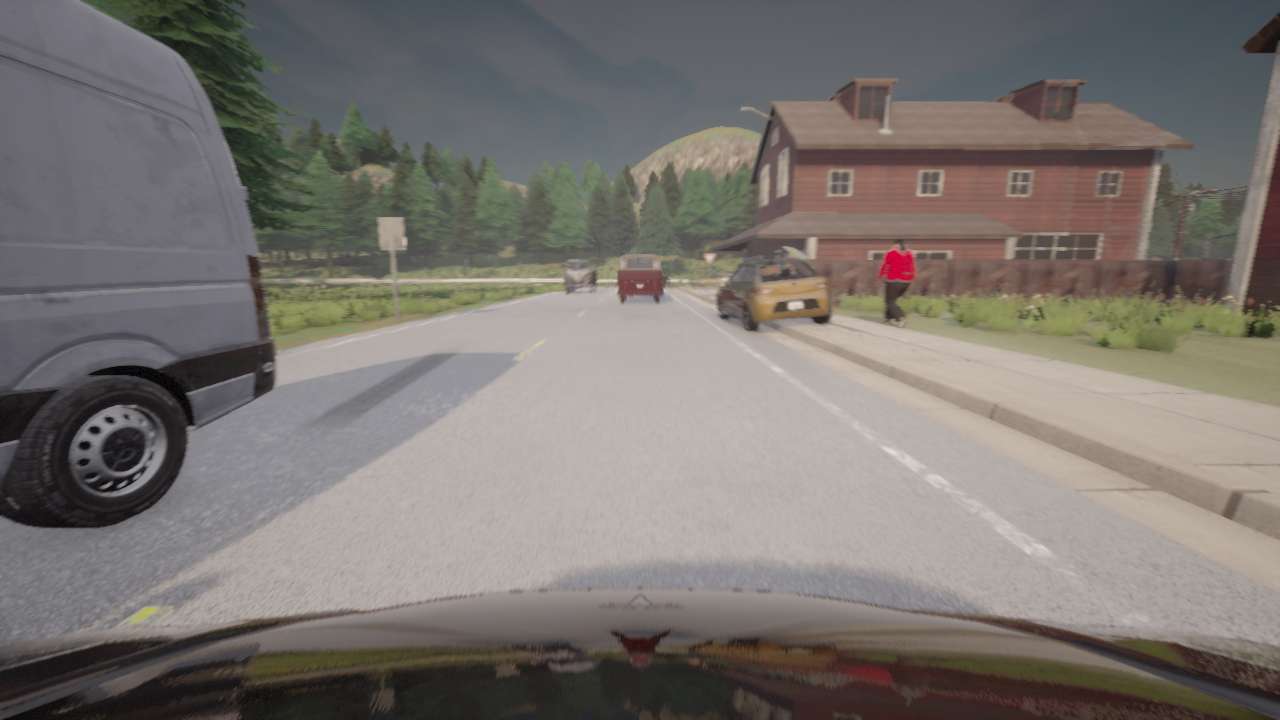cyclist: (0, 588, 1279, 719), (715, 258, 831, 331), (618, 254, 661, 302), (563, 263, 595, 284), (662, 274, 670, 286), (661, 283, 662, 288)
pedestrian: (875, 237, 916, 328)
